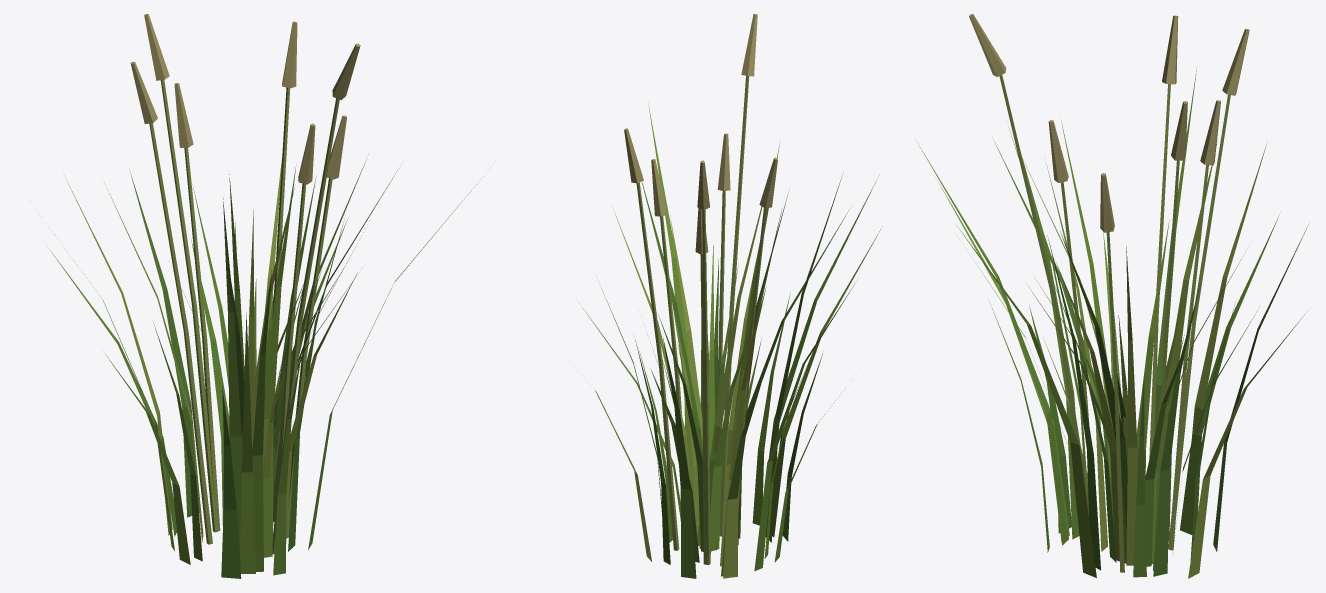
Rendered from grass_tall_idle.glb.
3 renders of one model, left to right at view 1: azimuth 30°, elevation 25°; view 2: azimuth 150°, elevation 25°; view 3: azimuth 270°, elevation 25°, orthographic. The views are drawn at different scales.
Parts seen in each view (by area): view 1: grass_tall; view 2: grass_tall; view 3: grass_tall.
Part boxes in pixels (x1=…): grass_tall: x1=49, y1=14, x2=483, y2=578; grass_tall: x1=579, y1=14, x2=882, y2=578; grass_tall: x1=917, y1=14, x2=1308, y2=578.
Bounding box in the file's own units: 0.65 × 0.9336 × 0.6071.
